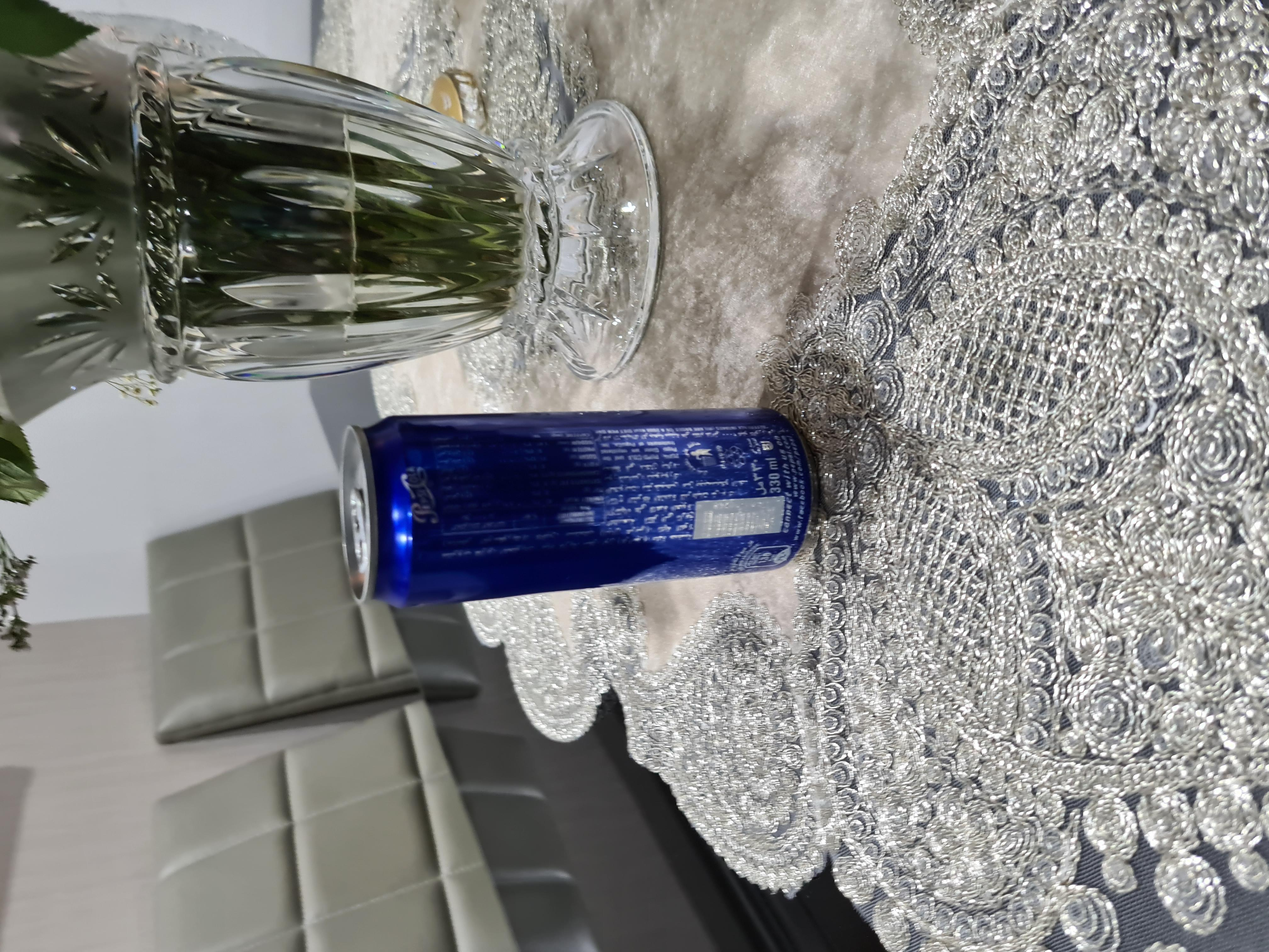debris: (323, 397, 825, 617)
